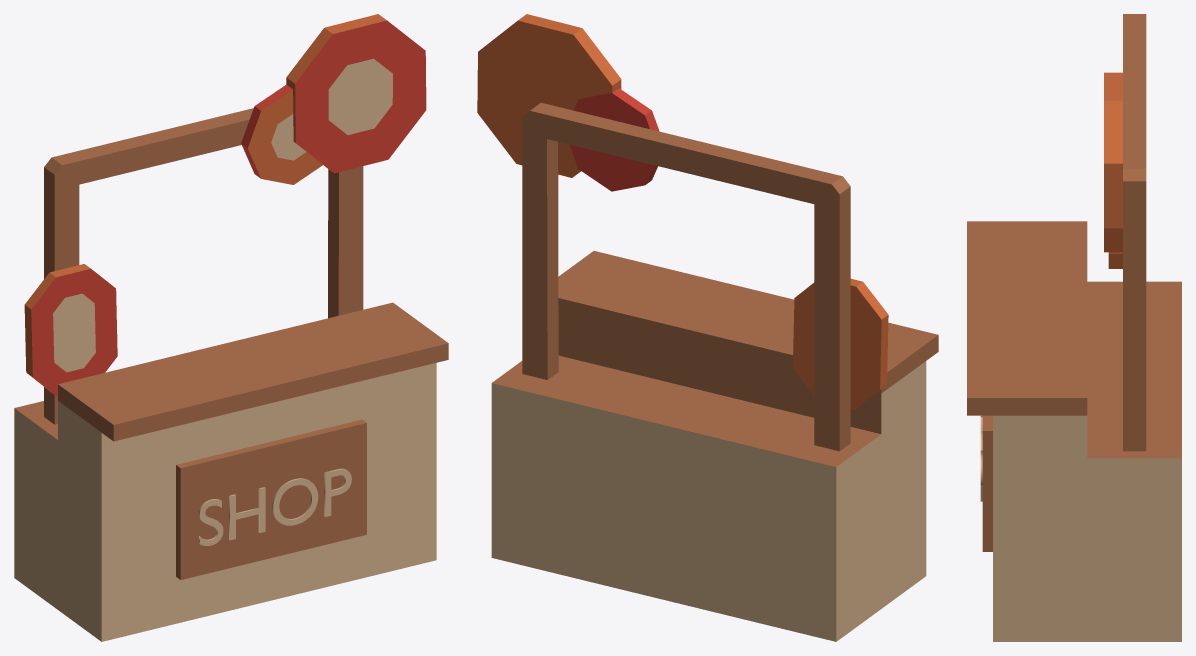
Rendered from shop.fbx.
The picture shows the model from 3 angles, left to right: view 1: azimuth 30°, elevation 25°; view 2: azimuth 150°, elevation 25°; view 3: azimuth 270°, elevation 25°; orthographic projection. The views are drawn at different scales.
Parts seen in each view (by area): view 1: Cube.001; view 2: Cube.001; view 3: Cube.001.
Boxes of the visible parts, x1,y1,x2,y2 form: Cube.001: [14, 14, 448, 641]; Cube.001: [477, 14, 938, 641]; Cube.001: [967, 14, 1181, 641].
Bounding box in the file's own units: 1.65 × 2.01 × 0.7223.
